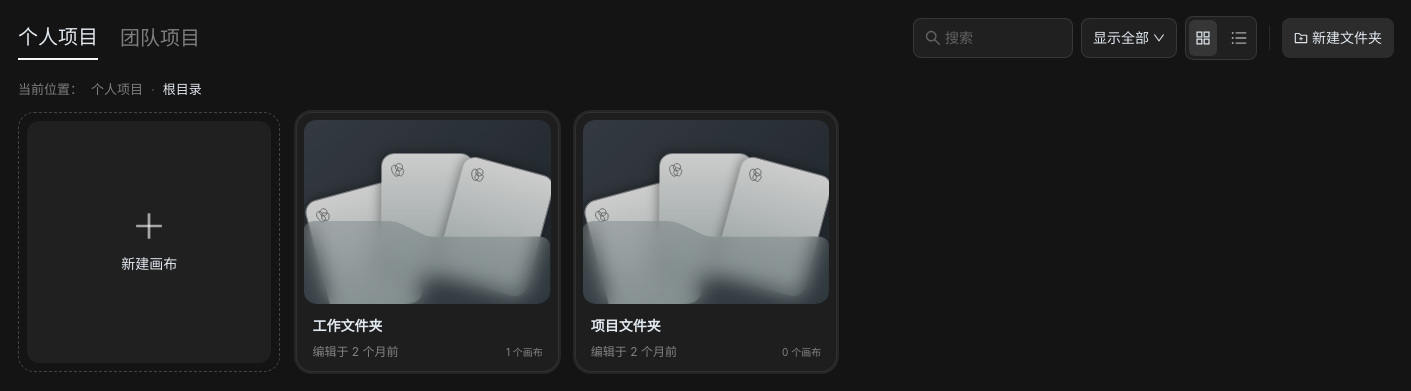
Scenario: WorkspacePage › 筛选「仅文件夹」隐藏新建画布卡，文件夹仍显示
The image size is (1411, 391).
Note: 点击筛选下拉按钮展开菜单
Click the button "显示全部": (1129, 38) [1081,18,1177,58]
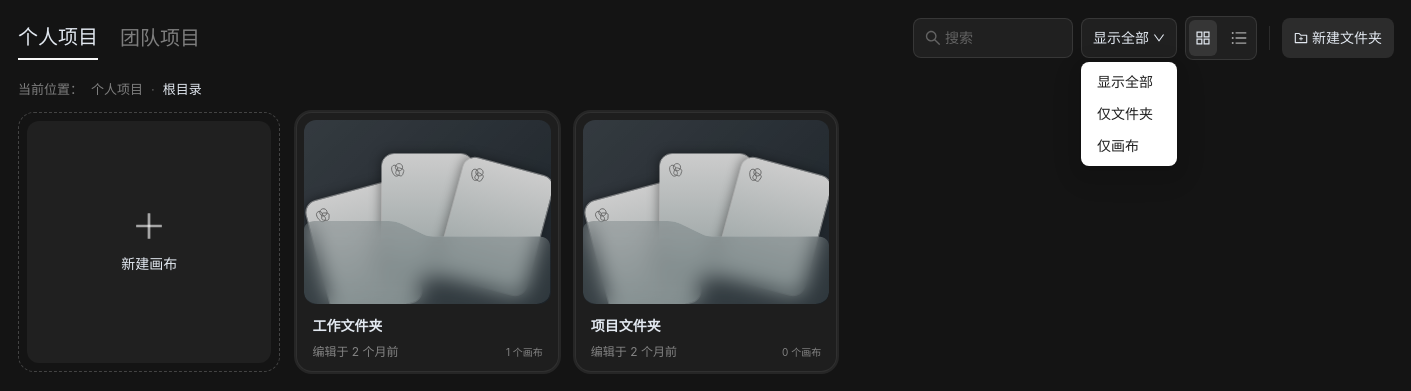
Click the menu item "仅文件夹": (1125, 114) [1097,105,1153,122]
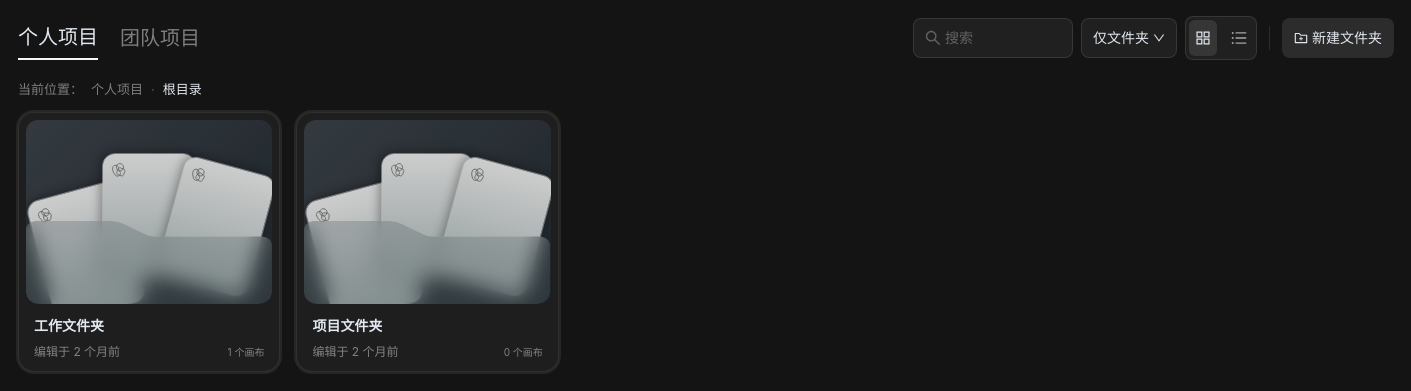
Expected: the button with test id "folder-card-f1" is shown, [18,112,280,372]
Expected: the list item with test id "create-canvas-card" is gone
